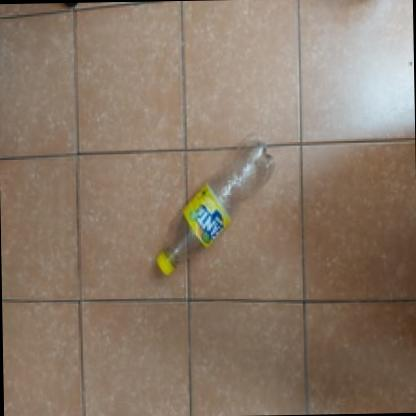plastic_bottles: (146, 138, 280, 278)
